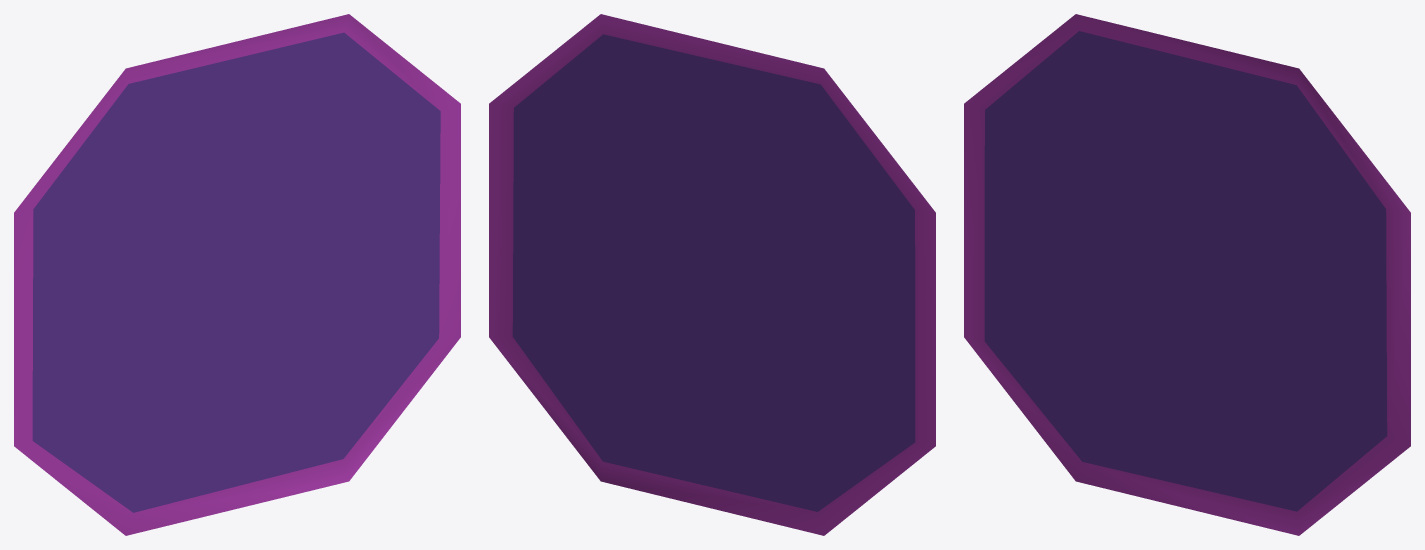
3 views of the same model, side by side, from view 1: azimuth 30°, elevation 25°; view 2: azimuth 150°, elevation 25°; view 3: azimuth 330°, elevation 25° (orthographic).
Parts seen in each view (by area): view 1: bg; view 2: bg; view 3: bg.
Boxes of the visible parts, x1,y1,x2,y2 form: bg: [14, 14, 460, 535]; bg: [489, 14, 935, 535]; bg: [964, 14, 1410, 535].
Size of the model in its own units: 0.3557 by 0.3557 by 0.00556.
